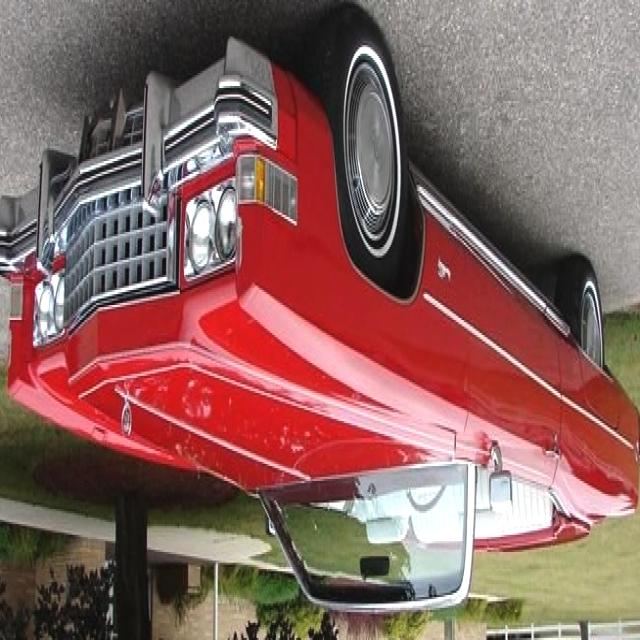red: (10, 42, 640, 626)
